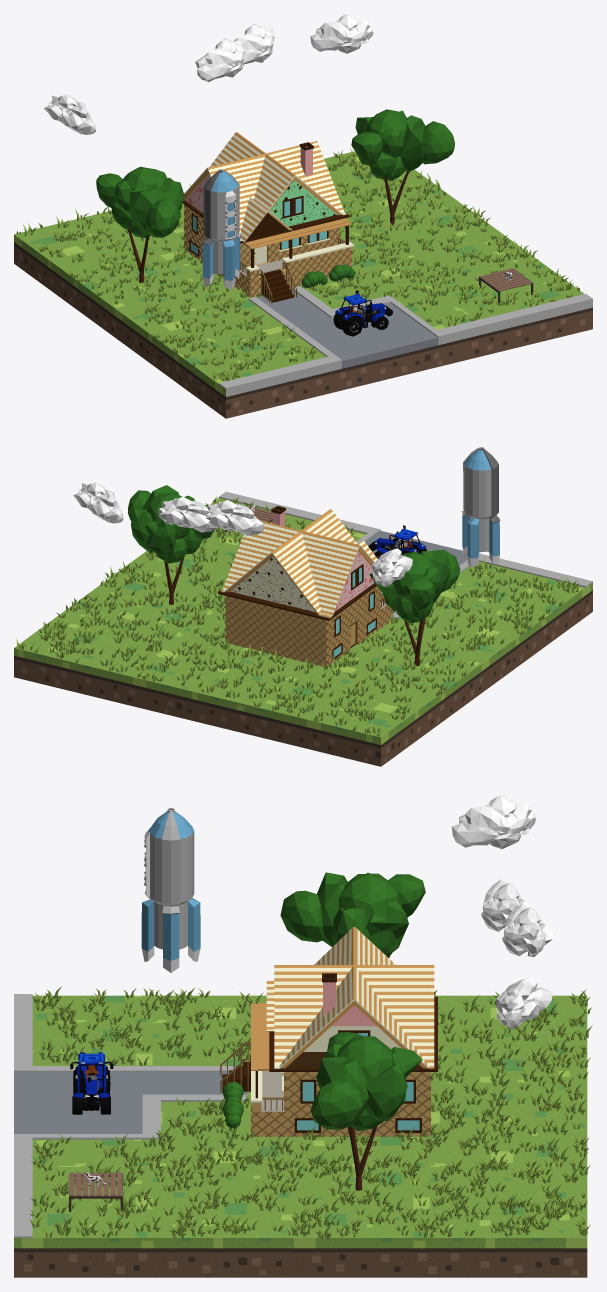
3 renders of one model, top to bottom at view 1: azimuth 30°, elevation 25°; view 2: azimuth 150°, elevation 25°; view 3: azimuth 270°, elevation 25°, orthographic. The views are drawn at different scales.
Parts seen in each view (by area): view 1: Cube.006, Circle.012_Grass_0.192, Cube.1102, Cube.007, tree, tree.001, OBJRANDOM_ROCKETSHIP, VEHICLES_TRACTOR, Cube.009; view 2: Cube.006, Cube.1102, Circle.012_Grass_0.192, Cube.007, OBJRANDOM_ROCKETSHIP, tree.001, tree, VEHICLES_TRACTOR; view 3: Cube.006, Circle.012_Grass_0.192, Cube.1102, tree, Cube.007, tree.001, OBJRANDOM_ROCKETSHIP, VEHICLES_TRACTOR, Cube.009.
Boxes of the visible parts, x1,y1,x2,y2 form: Cube.006: (14,151,592,418); Circle.012_Grass_0.192: (16,148,579,381); Cube.1102: (182,132,354,303); Cube.007: (44,14,373,134); tree: (351,109,454,225); tree.001: (96,166,183,282); OBJRANDOM_ROCKETSHIP: (202,169,240,289); VEHICLES_TRACTOR: (333,290,392,336); Cube.009: (479,268,533,302); Cube.006: (14,491,592,766); Cube.1102: (218,506,393,667); Circle.012_Grass_0.192: (16,497,579,736); Cube.007: (73,482,412,587); OBJRANDOM_ROCKETSHIP: (462,447,500,567); tree.001: (369,549,460,665); tree: (128,485,213,604); VEHICLES_TRACTOR: (368,525,426,558); Cube.006: (14,994,587,1277); Circle.012_Grass_0.192: (29,986,592,1239); Cube.1102: (220,927,437,1136); tree: (310,1032,422,1190); Cube.007: (451,795,552,1029); tree.001: (280,872,425,957); OBJRANDOM_ROCKETSHIP: (141,808,200,972); VEHICLES_TRACTOR: (70,1052,113,1114); Cube.009: (69,1172,122,1211).
Size of the model in its own units: 4071 by 2277 by 4040.
33 materials, 4 textured.
